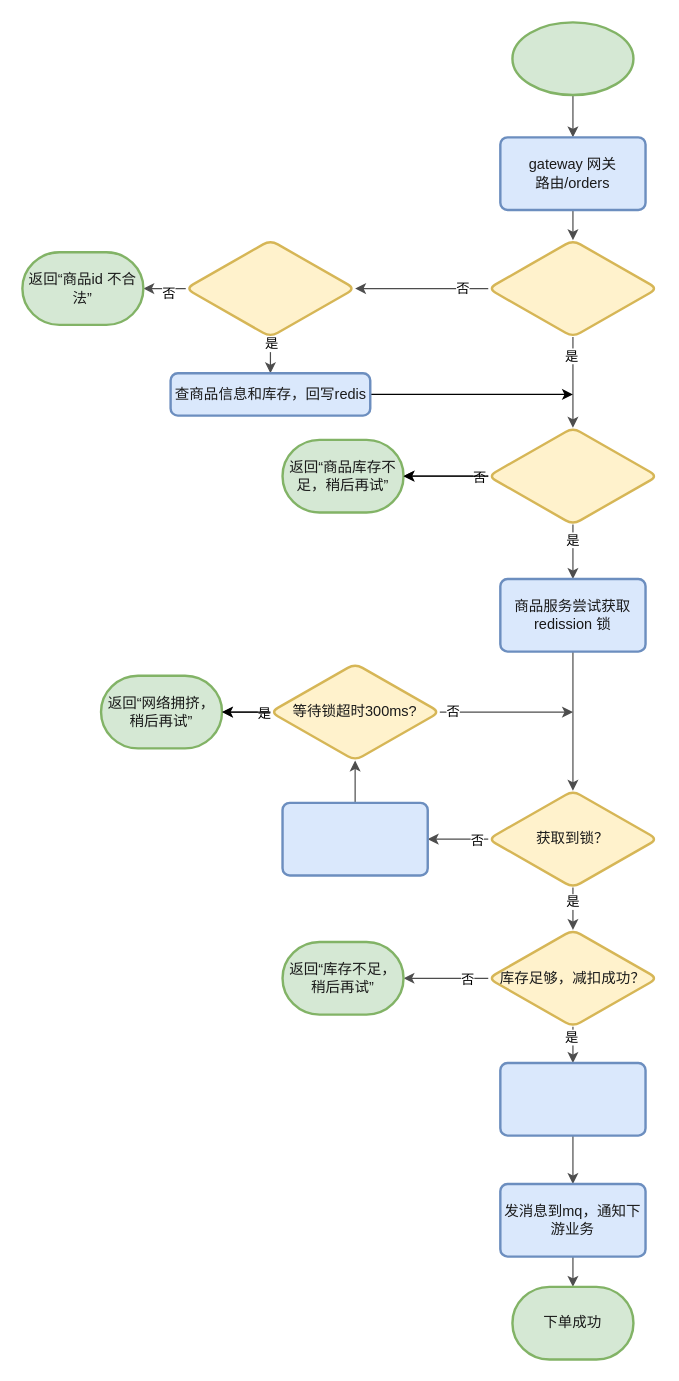
Image size: 679x1381. Some labels were removed from this diagram. The shapes that lost their labels are listed below. From the top down, each one's centre as x and y in pixels, then its label:
At [572,58]: "用户点击下单".
At [270,288]: "db 有商品信息？".
At [572,288]: "商品id 命中redis？".
At [572,475]: "商品剩余库存>=订单需求数？".
At [354,838]: "请求阻塞， 等待所释放".
At [572,1098]: "计算金额，创建订单".
